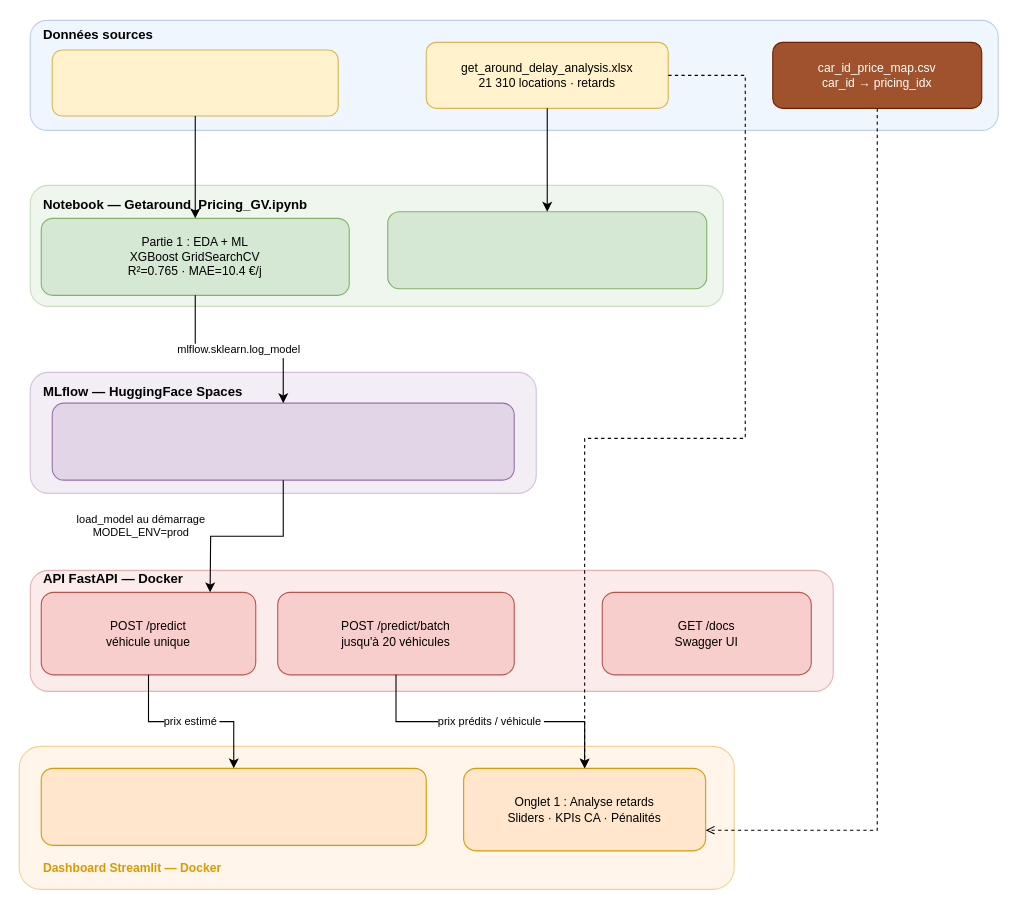
The diagram is 1018 pixels wide and 909 high, and some of its shapes have lost their labels. The shapes that lost their labels are listed below. From the top down, each one's centre as x and y in pixels, then its label:
At pixel 194 82: "get_around_pricing_project.csv 4 841 véhicules · 14 features".
At pixel 547 250: "Partie 2 : Analyse retards Seuils connect 30 min / mobile 60 min".
At pixel 282 441: "Registre de modèles tag env=prod · status=best Artifact store : S3 eu-west-3".
At pixel 233 806: "Onglet 2 : Prédiction prix Formulaire véhicule".
